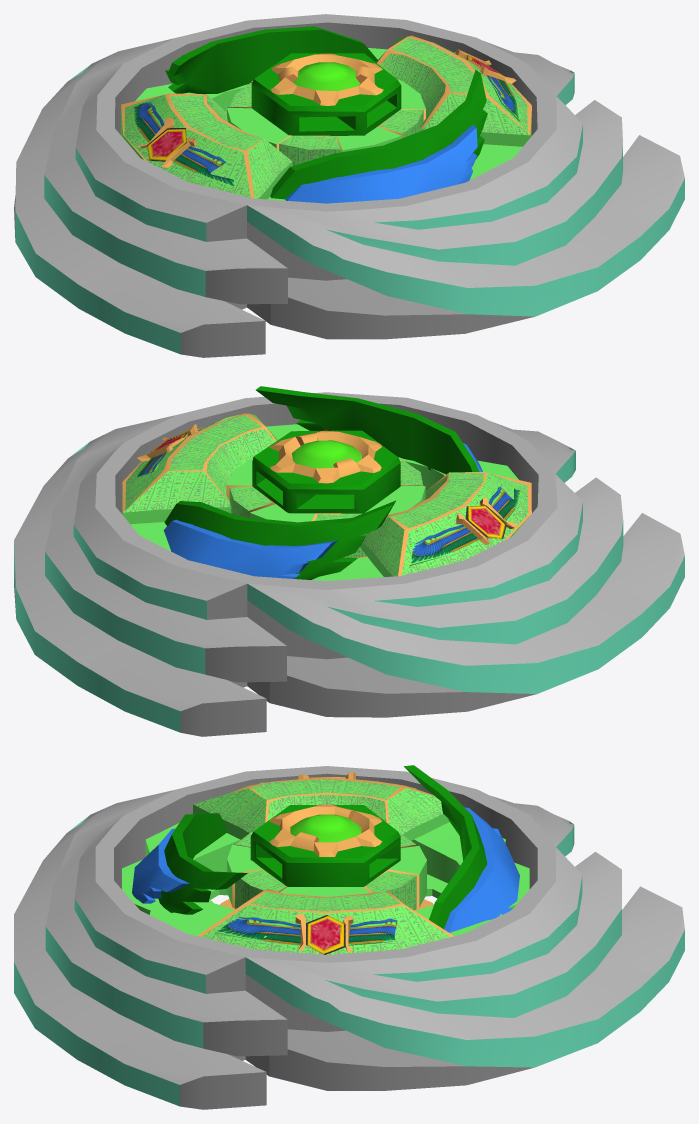
File: Com3d_BbAI_condlx_N000out.obj
The picture shows the model from 3 angles, top to bottom: view 1: azimuth 30°, elevation 25°; view 2: azimuth 150°, elevation 25°; view 3: azimuth 270°, elevation 25°; orthographic projection.
Visible parts, largest first — view 1: Com3d_BbAI_condlx_N000out; view 2: Com3d_BbAI_condlx_N000out; view 3: Com3d_BbAI_condlx_N000out.
Part boxes in pixels (box(x1,y1,x2,y2)): Com3d_BbAI_condlx_N000out: box(14, 14, 684, 357); Com3d_BbAI_condlx_N000out: box(14, 386, 684, 736); Com3d_BbAI_condlx_N000out: box(14, 765, 684, 1109).
Bounding box in the file's own units: 31.47 × 9.12 × 31.84.
Materials: 1 (1 with a texture image).
